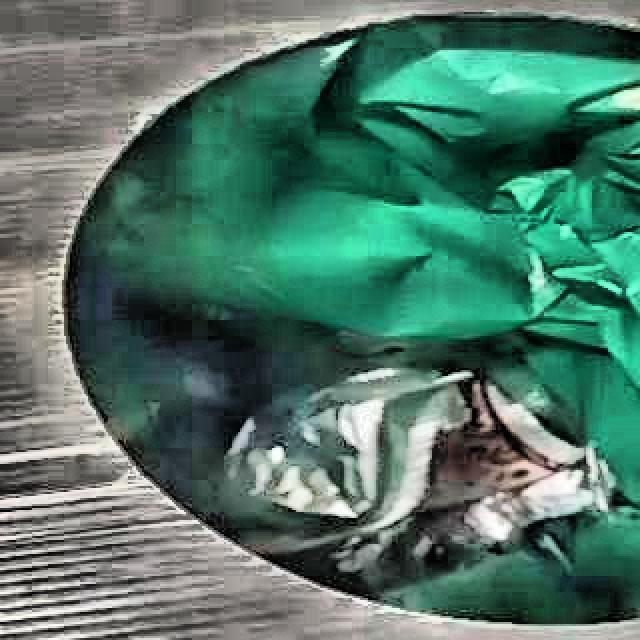metal: (221, 368, 616, 603)
